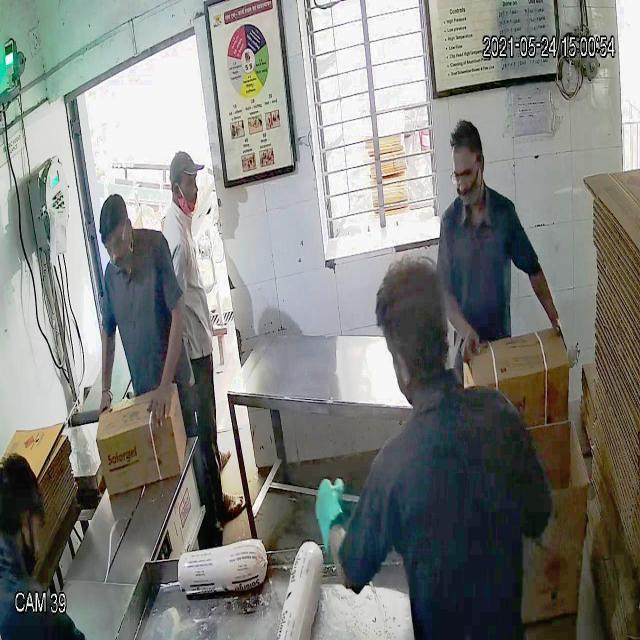glasses: (98, 226, 130, 262), (448, 163, 484, 193)
